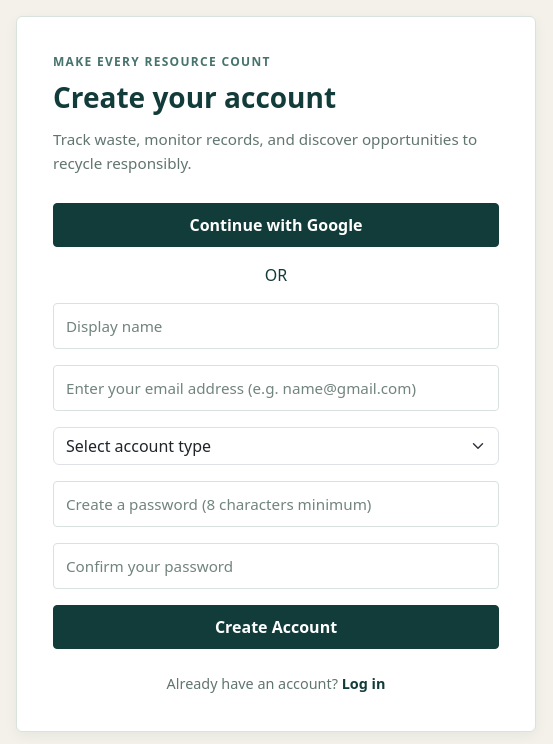
Test case: Signup Page › displays an error when passwords do not match
In the field labelled "Display name": coordinates (276, 326) [53,303,499,349], type "Test User"
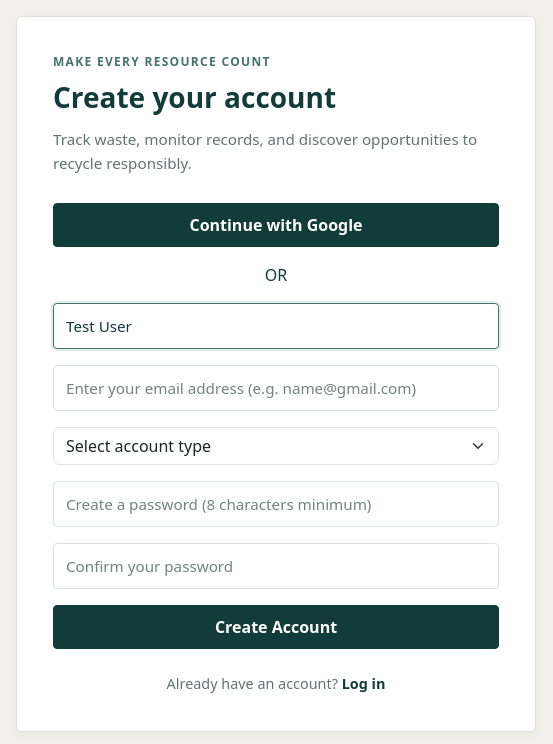
In the field labelled "Enter your email address (e.g. name@gmail.com)": coordinates (276, 388) [53,365,499,411], type "test@example.com"
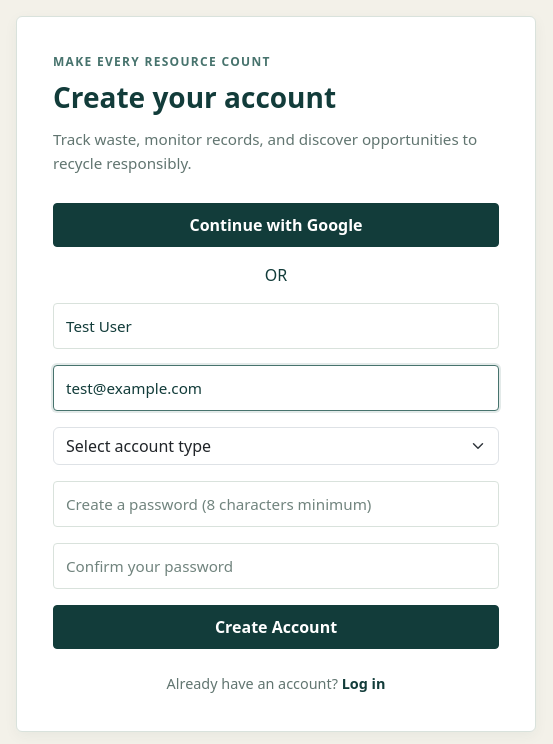
Select "Resident" in the dropdown named "account type": coordinates (276, 446) [53,427,499,465]
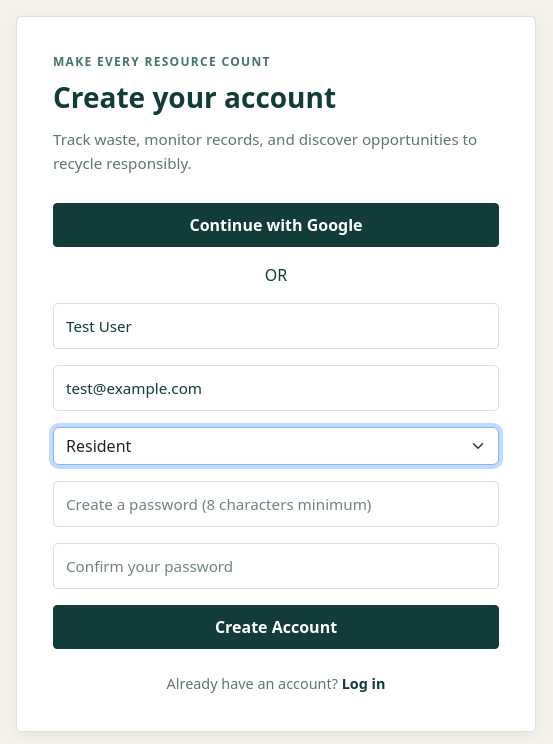
In the password field labelled "Create a password (8 characters minimum)": coordinates (276, 504) [53,481,499,527], type "Password123"
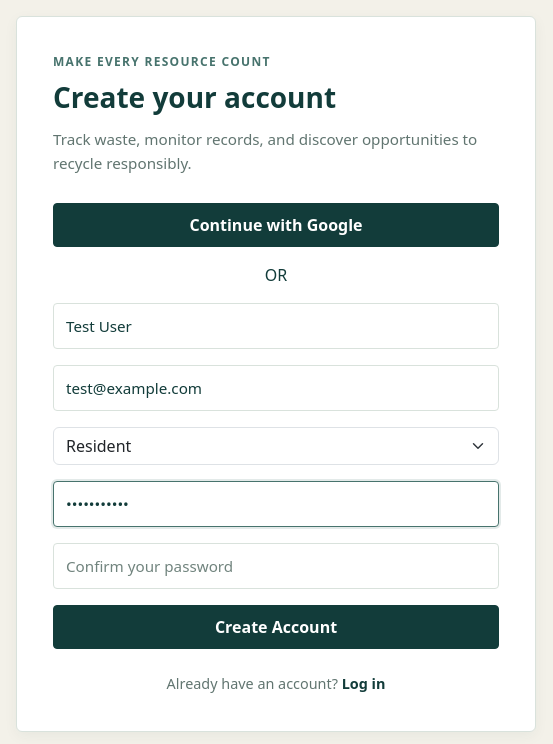
In the password field labelled "Confirm your password": coordinates (276, 566) [53,543,499,589], type "Different123"
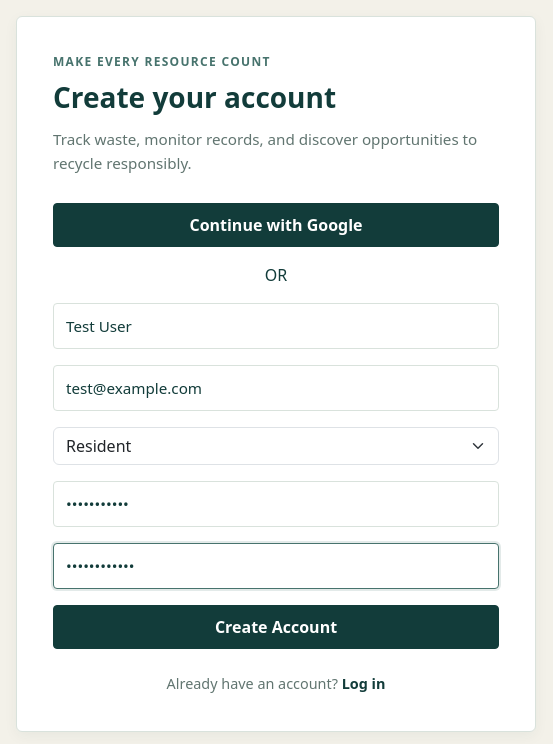
Click the button "Create Account": coordinates (276, 627) [53,605,499,649]
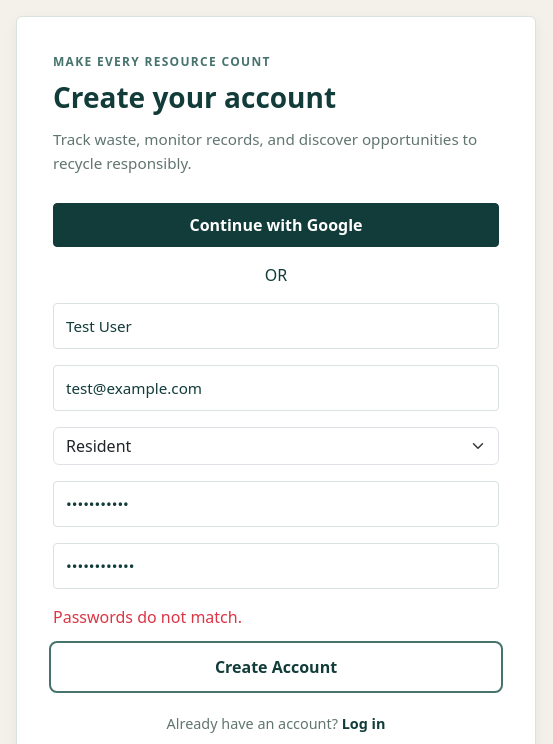
Expected: the message reads "Passwords do not match.", [53,606,242,628]
